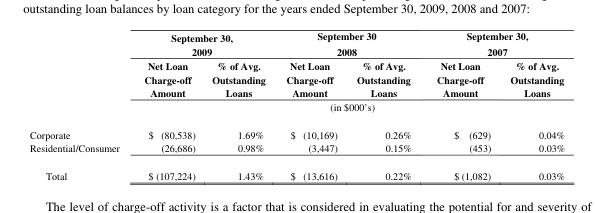table: (29, 28, 564, 182)
table column: (29, 28, 131, 182), (346, 28, 423, 182), (423, 28, 499, 182), (131, 28, 203, 182), (203, 28, 275, 182), (275, 28, 346, 182), (499, 28, 564, 182)
table column header: (29, 28, 564, 120)
table row: (29, 58, 564, 99), (29, 28, 564, 58), (29, 99, 564, 120), (29, 140, 564, 161), (29, 161, 564, 182), (29, 120, 564, 140)
table spanning cell: (131, 99, 564, 120), (275, 28, 423, 58), (131, 28, 275, 58), (423, 28, 564, 58)
